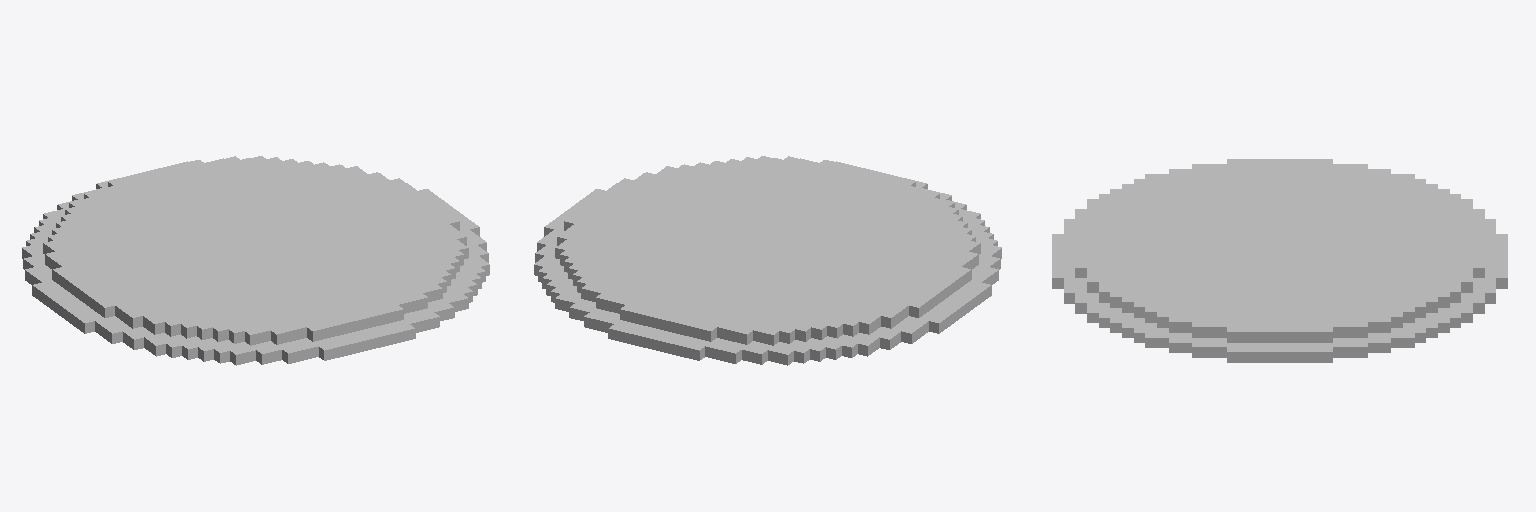
Rendered from Stand.obj.
3 views of the same model, side by side, from view 1: azimuth 30°, elevation 25°; view 2: azimuth 150°, elevation 25°; view 3: azimuth 270°, elevation 25° (orthographic).
Bounding box in the file's own units: 39 × 2 × 39.